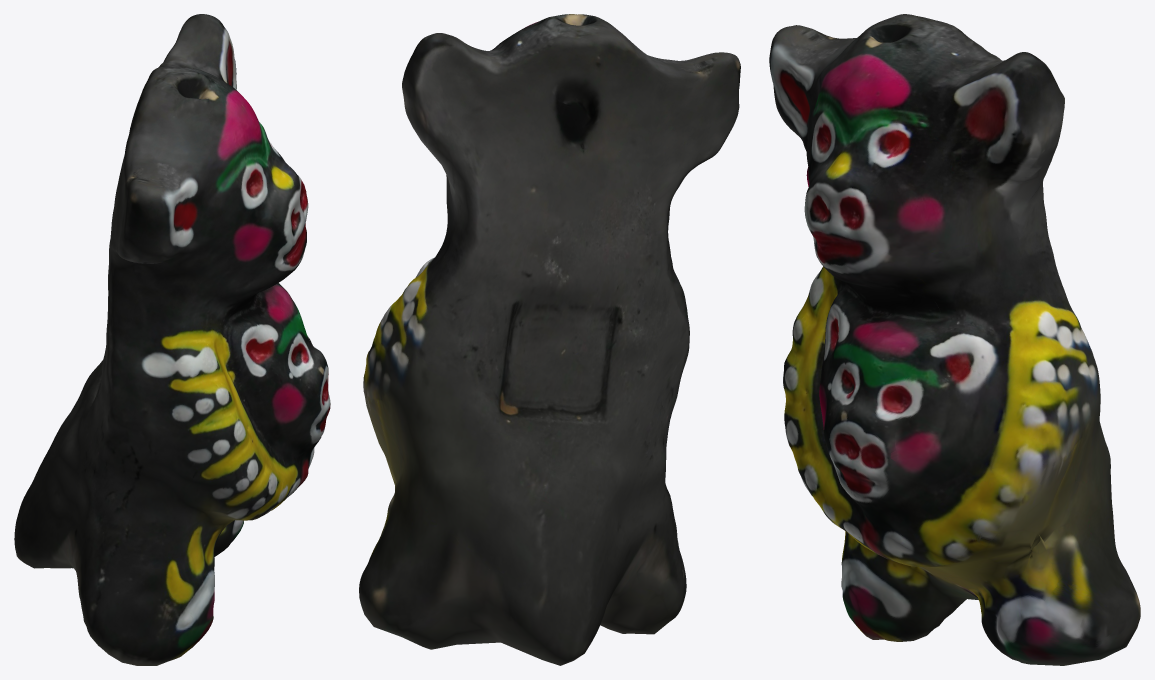
3 renders of one model, left to right at view 1: azimuth 30°, elevation 25°; view 2: azimuth 150°, elevation 25°; view 3: azimuth 270°, elevation 25°, orthographic. The views are drawn at different scales.
Bounding box in the file's own units: 0.3151 × 0.6889 × 0.3637.
Materials: 1 (1 with a texture image).
